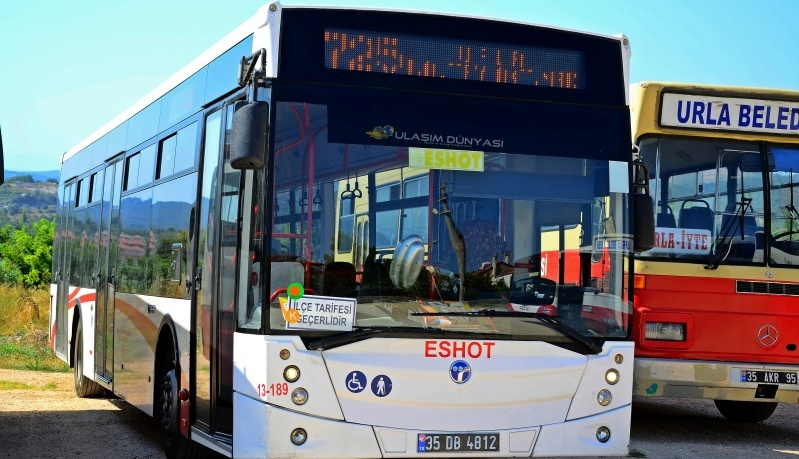bus: (37, 3, 652, 459), (623, 52, 799, 417)
